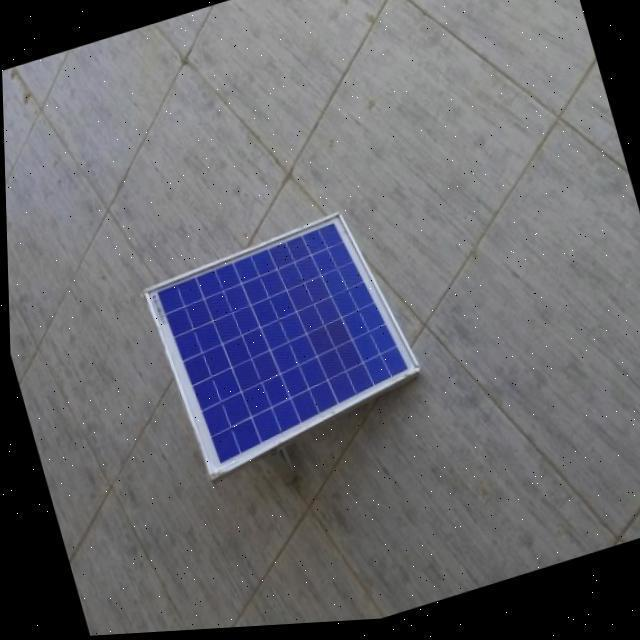Normal Solar Panel: (141, 205, 424, 482)
